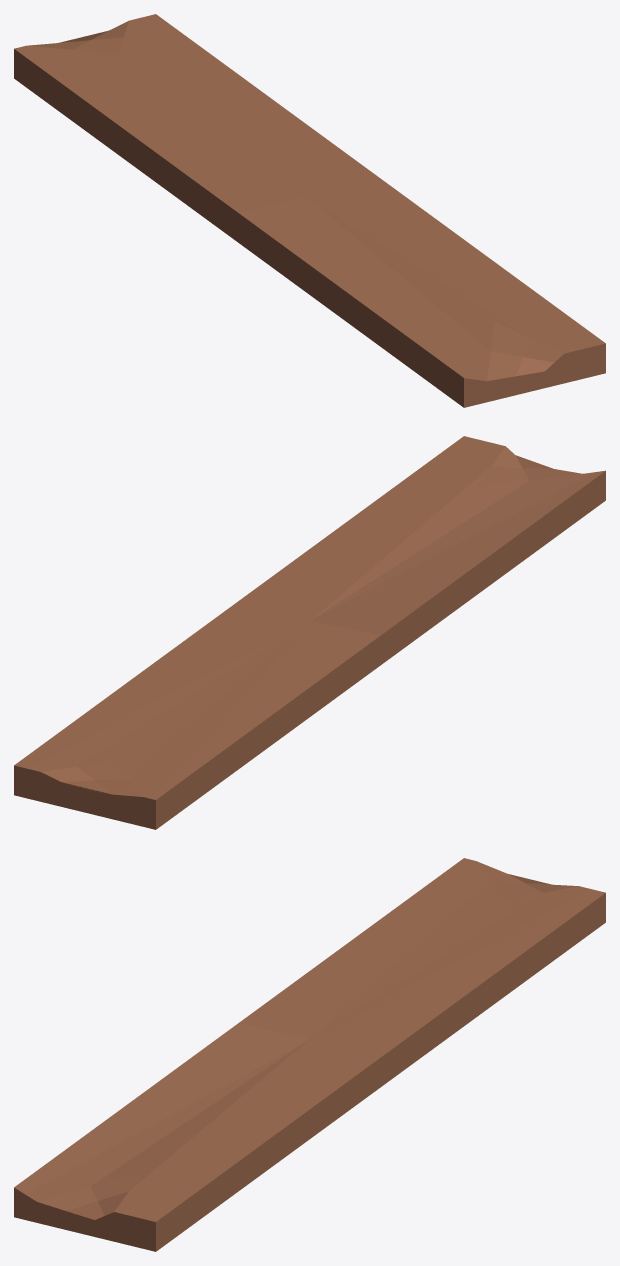
The model's file is Plank.fbx.
3 views of the same model, one above another, from view 1: azimuth 30°, elevation 25°; view 2: azimuth 150°, elevation 25°; view 3: azimuth 330°, elevation 25° (orthographic).
Parts seen in each view (by area): view 1: Cube; view 2: Cube; view 3: Cube.
Boxes of the visible parts, box(x1,y1,x2,y2) form: Cube: box(14, 14, 605, 407); Cube: box(14, 436, 605, 829); Cube: box(14, 858, 605, 1251).
Bounding box in the file's own units: 200 × 40.18 × 1098.
